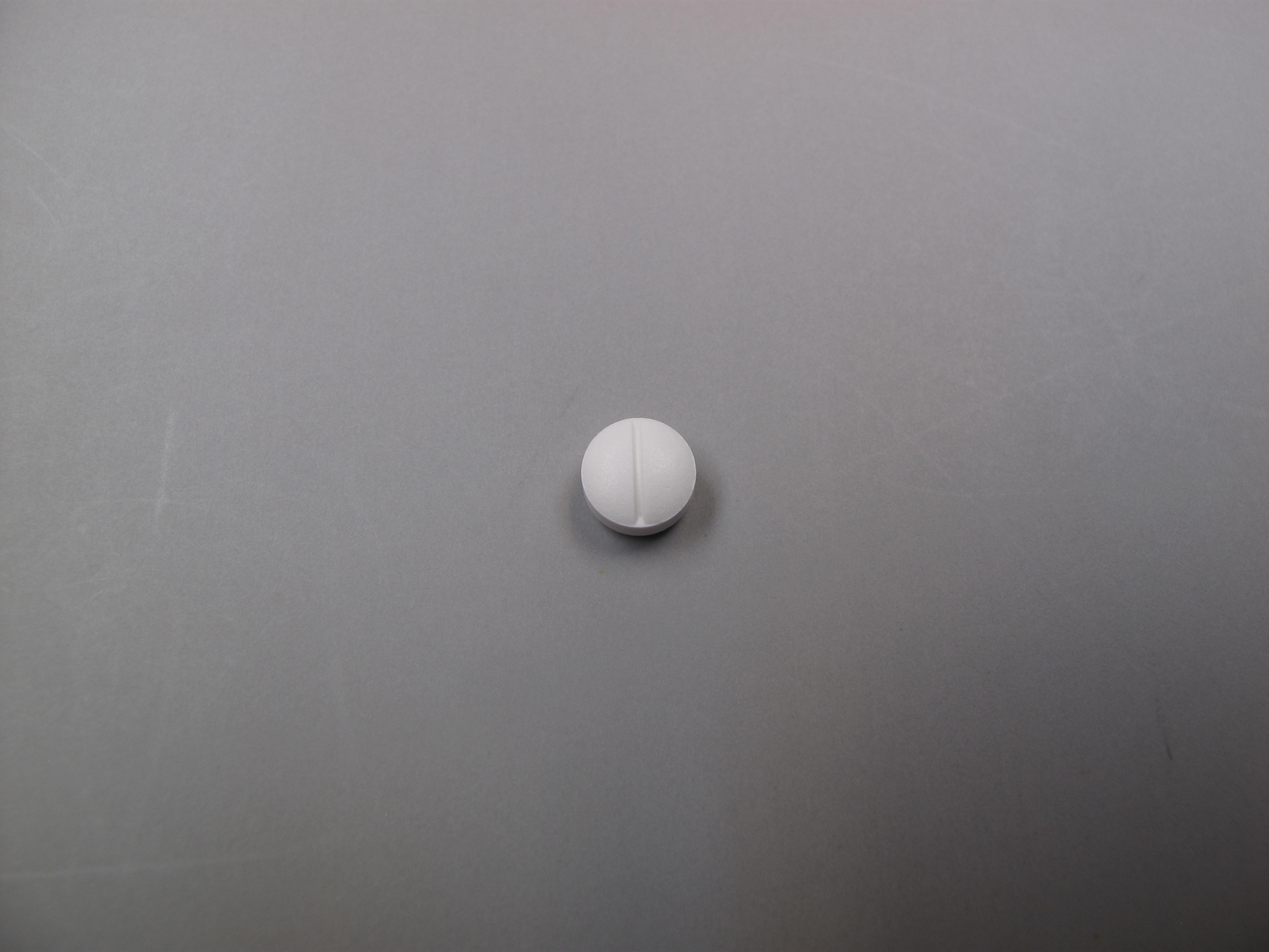Pill: (576, 414, 704, 543)
